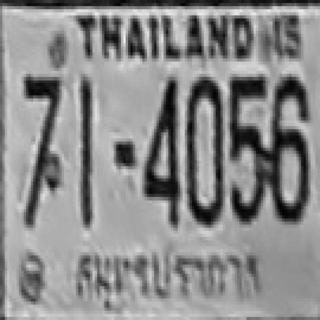N00: (185, 75, 223, 225)
N01: (78, 77, 94, 230)
N04: (142, 75, 178, 223)
N05: (227, 72, 266, 224)
N06: (267, 76, 309, 220)
N07: (20, 74, 60, 225)
P57: (64, 238, 265, 311)
